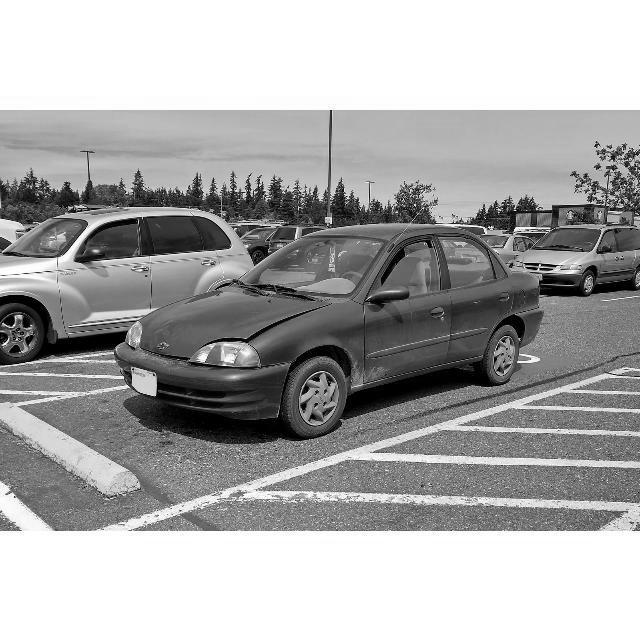doorouter-dent: (365, 305, 449, 386)
fender-dent: (326, 310, 368, 391)
